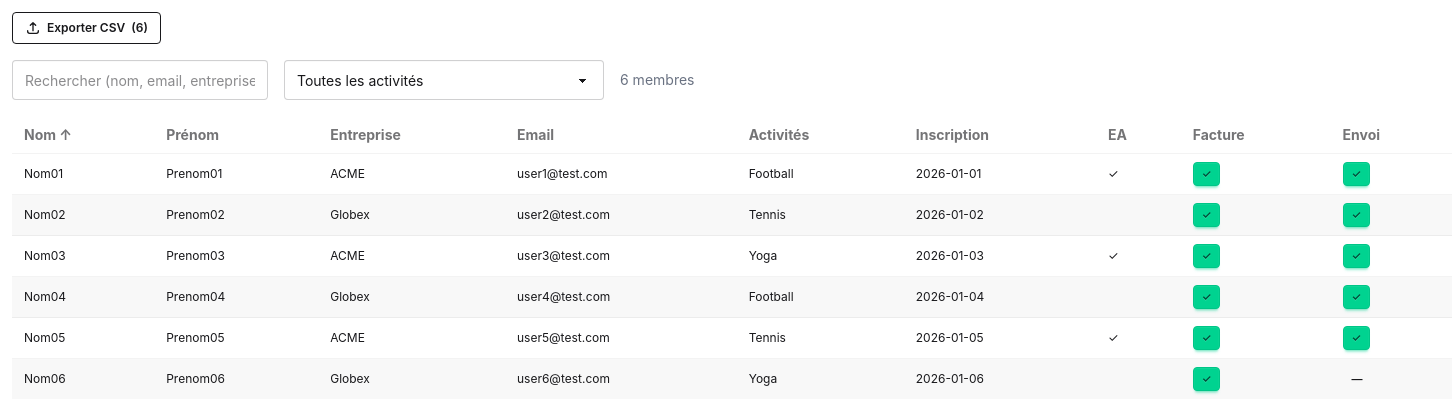
MemberTable › filters by activity dropdown
Select "Football" in the dropdown: (444, 80) [284,60,604,100]
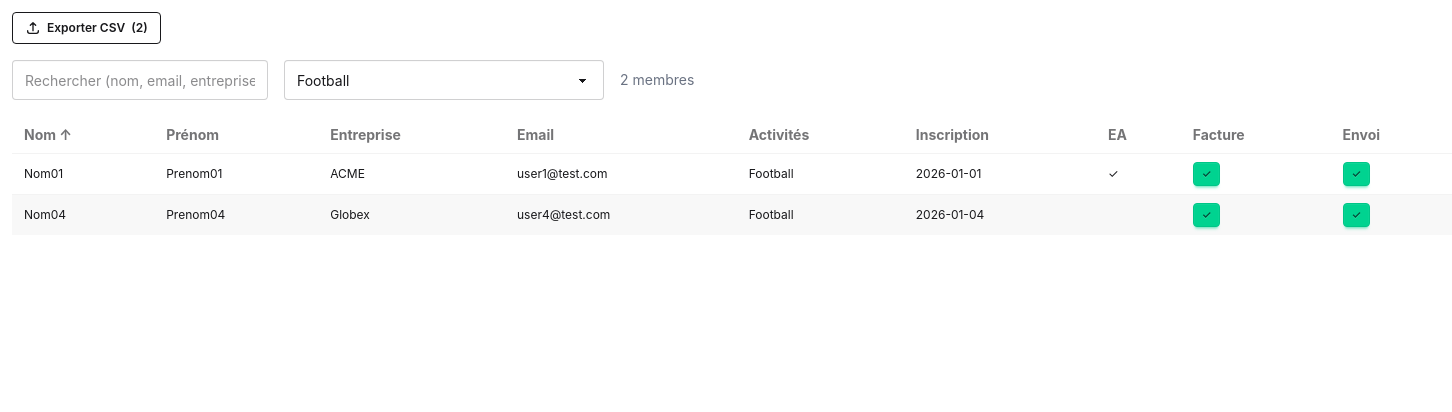
Expected: the text "Nom01" is shown, [12,154,154,195]
Expected: the text "Nom04" is shown, [12,195,154,235]
Expected: the text "Nom02" is gone
